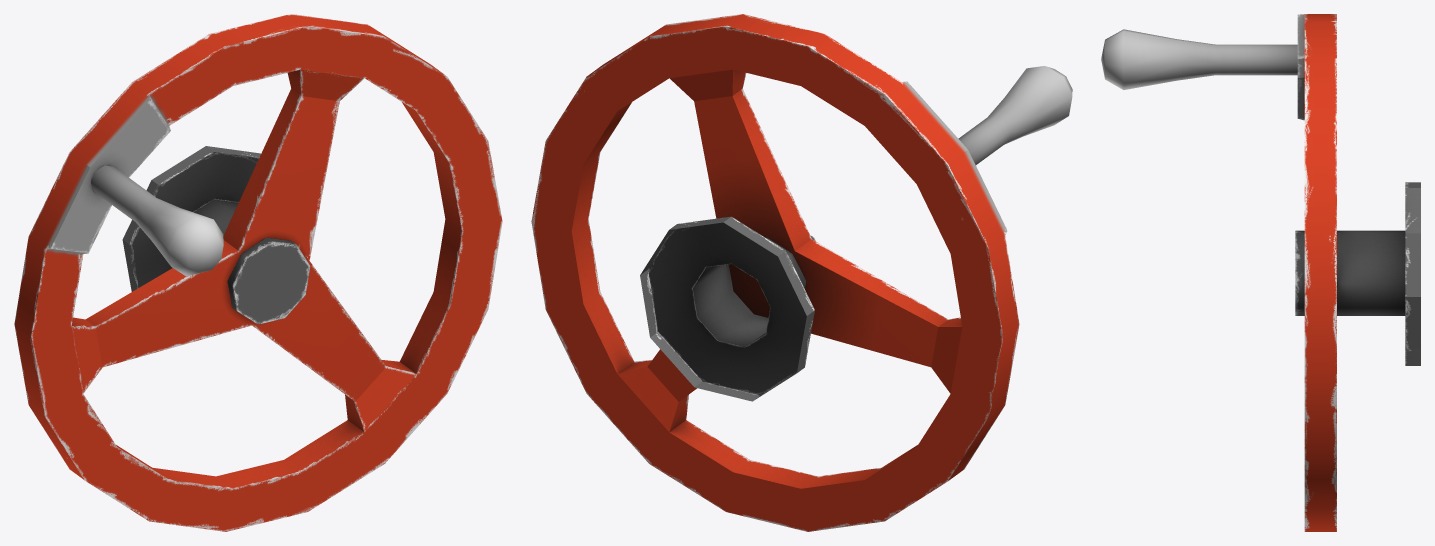
Rendered from Wheel.FBX.
The picture shows the model from 3 angles, left to right: view 1: azimuth 30°, elevation 25°; view 2: azimuth 150°, elevation 25°; view 3: azimuth 270°, elevation 25°; orthographic projection. The views are drawn at different scales.
Visible parts, largest first — view 1: Wheel_part, Wheel; view 2: Wheel_part, Wheel; view 3: Wheel_part, Wheel.
Boxes of the visible parts, x1,y1,x2,y2 form: Wheel_part: [14, 14, 502, 531]; Wheel: [122, 146, 310, 324]; Wheel_part: [531, 14, 1072, 531]; Wheel: [640, 216, 815, 401]; Wheel_part: [1101, 14, 1336, 531]; Wheel: [1295, 182, 1420, 365].
Bounding box in the file's own units: 13.69 × 13.49 × 8.42.
Materials: 1 (1 with a texture image).
